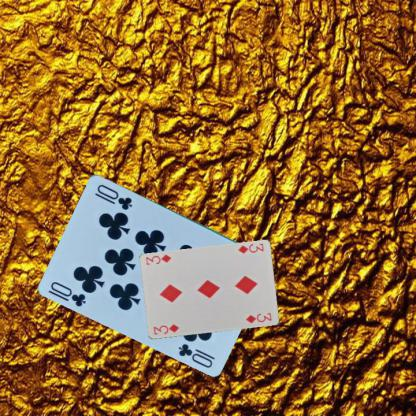10c: (48, 278, 88, 308)
3d: (150, 322, 180, 336), (235, 241, 265, 255)
